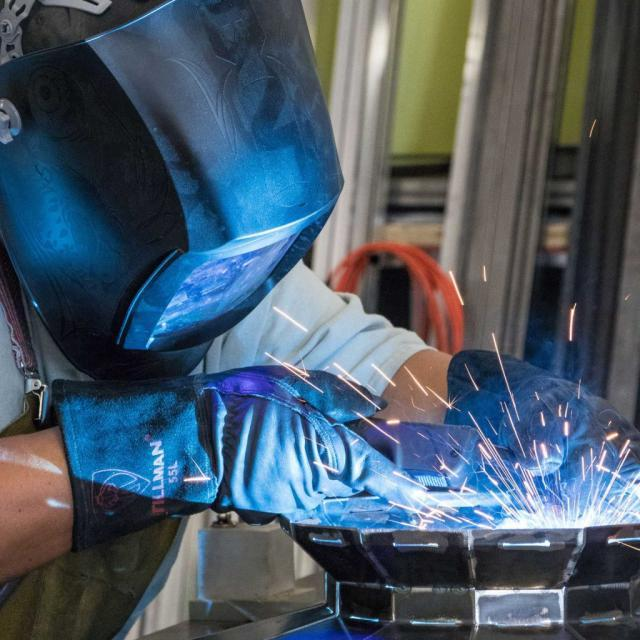with_helmet: (0, 0, 342, 378)
